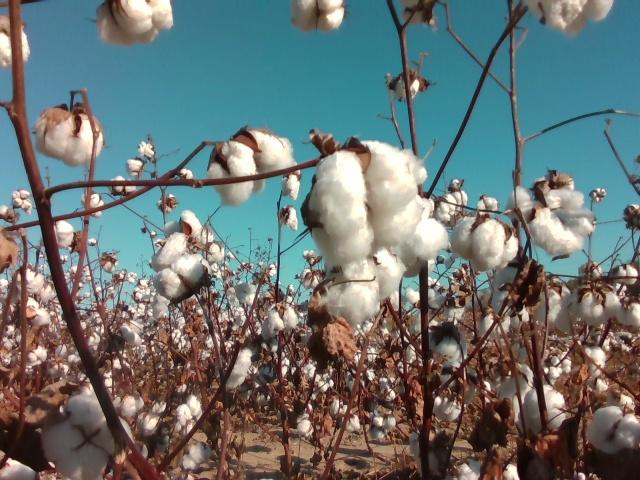cotton_ready: (311, 140, 421, 266), (44, 395, 132, 480), (208, 131, 295, 204), (324, 247, 405, 322), (510, 187, 595, 257), (489, 261, 564, 322), (389, 196, 449, 269), (33, 107, 102, 165), (453, 212, 520, 271), (564, 260, 623, 322), (154, 233, 207, 299), (95, 0, 174, 44), (526, 0, 614, 38), (520, 382, 568, 436), (589, 407, 640, 455), (290, 0, 343, 34), (0, 24, 30, 67)
